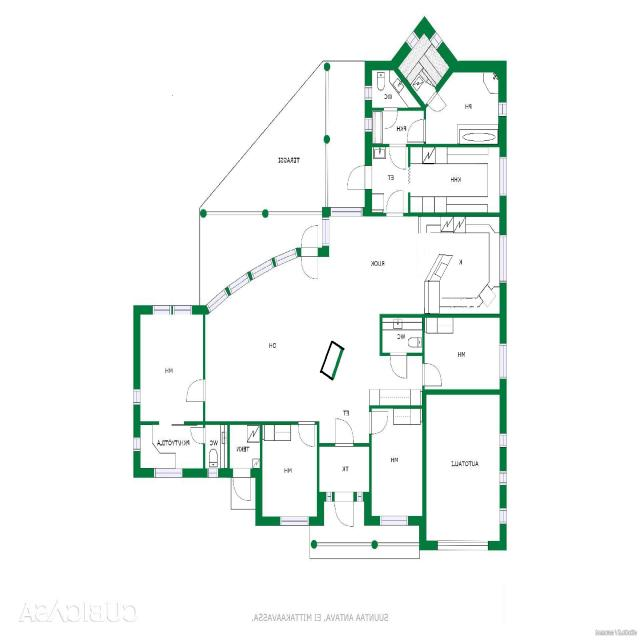door: (335, 492, 354, 527), (347, 165, 372, 189), (233, 468, 251, 501), (301, 248, 318, 280), (301, 225, 318, 257), (335, 419, 354, 447), (427, 91, 447, 117), (386, 190, 404, 216), (422, 363, 442, 386), (369, 411, 388, 434), (407, 119, 426, 142), (390, 353, 407, 378), (187, 379, 205, 402), (298, 422, 315, 446), (390, 144, 406, 168), (384, 108, 398, 129), (191, 427, 205, 444)
